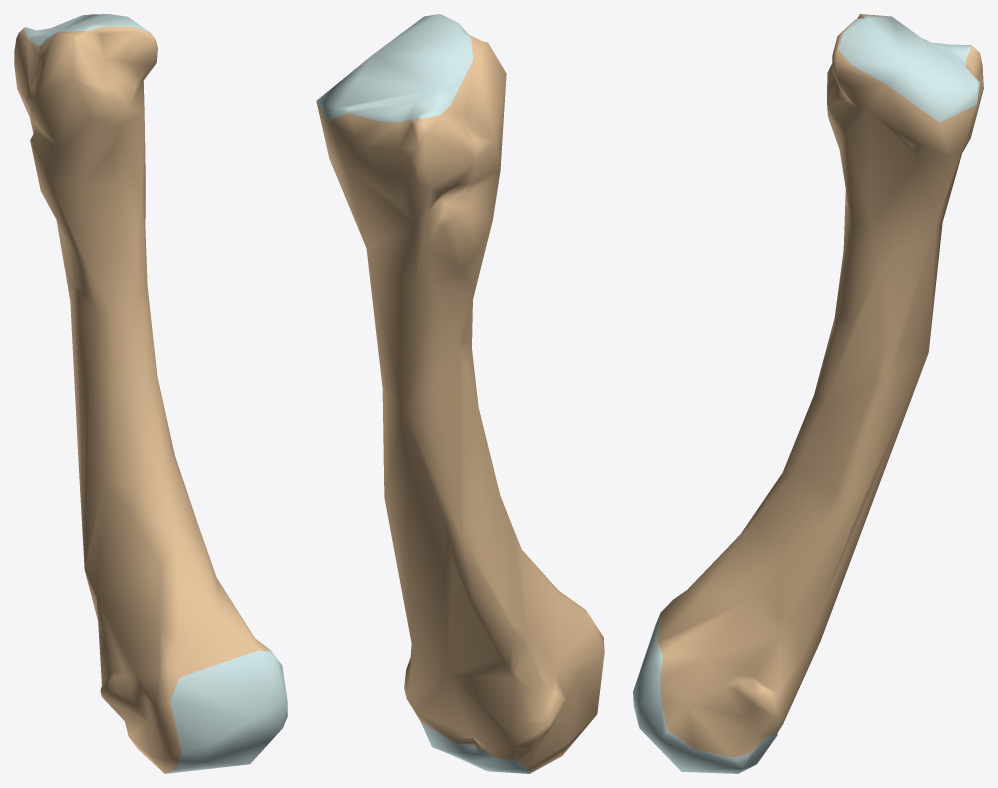
File: 4th_metacarpal_bone.r_Generated_Mesh_From_X3D.739.glb
3 renders of one model, left to right at view 1: azimuth 30°, elevation 25°; view 2: azimuth 150°, elevation 25°; view 3: azimuth 270°, elevation 25°, orthographic. The views are drawn at different scales.
Parts seen in each view (by area): view 1: 4th_metacarpal_bone.r_Generated_Mesh_From_X3D.739; view 2: 4th_metacarpal_bone.r_Generated_Mesh_From_X3D.739; view 3: 4th_metacarpal_bone.r_Generated_Mesh_From_X3D.739.
Boxes of the visible parts, x1,y1,x2,y2 form: 4th_metacarpal_bone.r_Generated_Mesh_From_X3D.739: (14, 14, 287, 773); 4th_metacarpal_bone.r_Generated_Mesh_From_X3D.739: (316, 14, 604, 773); 4th_metacarpal_bone.r_Generated_Mesh_From_X3D.739: (633, 14, 983, 773).
Bounding box in the file's own units: 0.0131 × 0.0621 × 0.0271.
